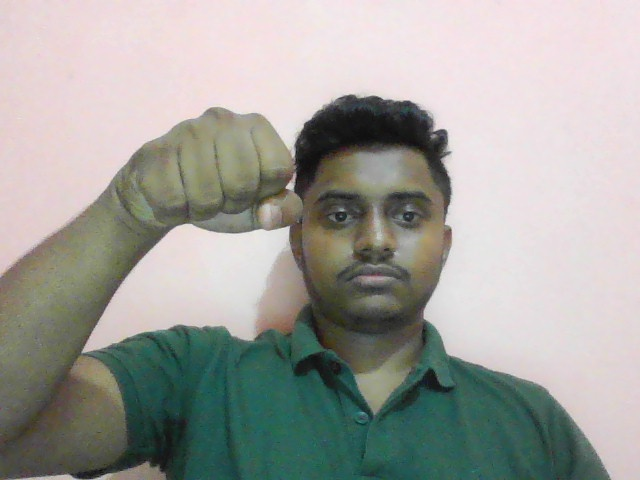Yes: (108, 103, 314, 240)
